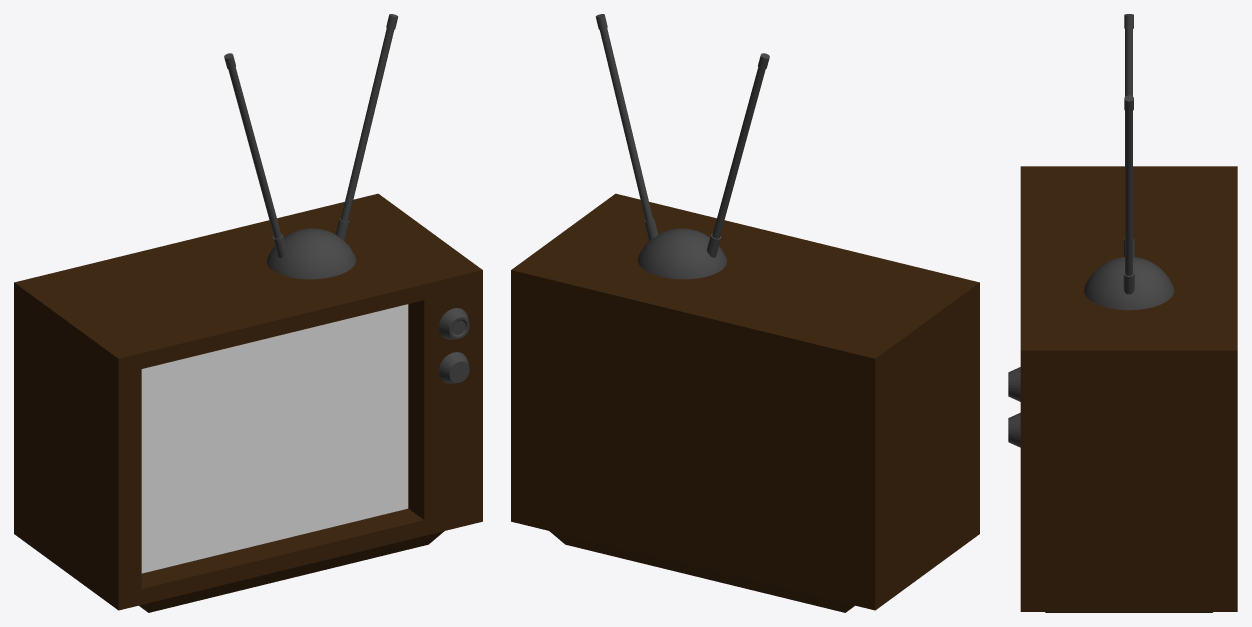
3 renders of one model, left to right at view 1: azimuth 30°, elevation 25°; view 2: azimuth 150°, elevation 25°; view 3: azimuth 270°, elevation 25°, orthographic. The views are drawn at different scales.
Parts seen in each view (by area): view 1: Cube, Plane; view 2: Cube; view 3: Cube.
Part boxes in pixels (x1,y1,x2,y2): Cube: (14,14,482,612); Plane: (141,304,408,573); Cube: (511,14,979,612); Cube: (1008,14,1237,612).
Bounding box in the file's own units: 514 × 673 × 270.
